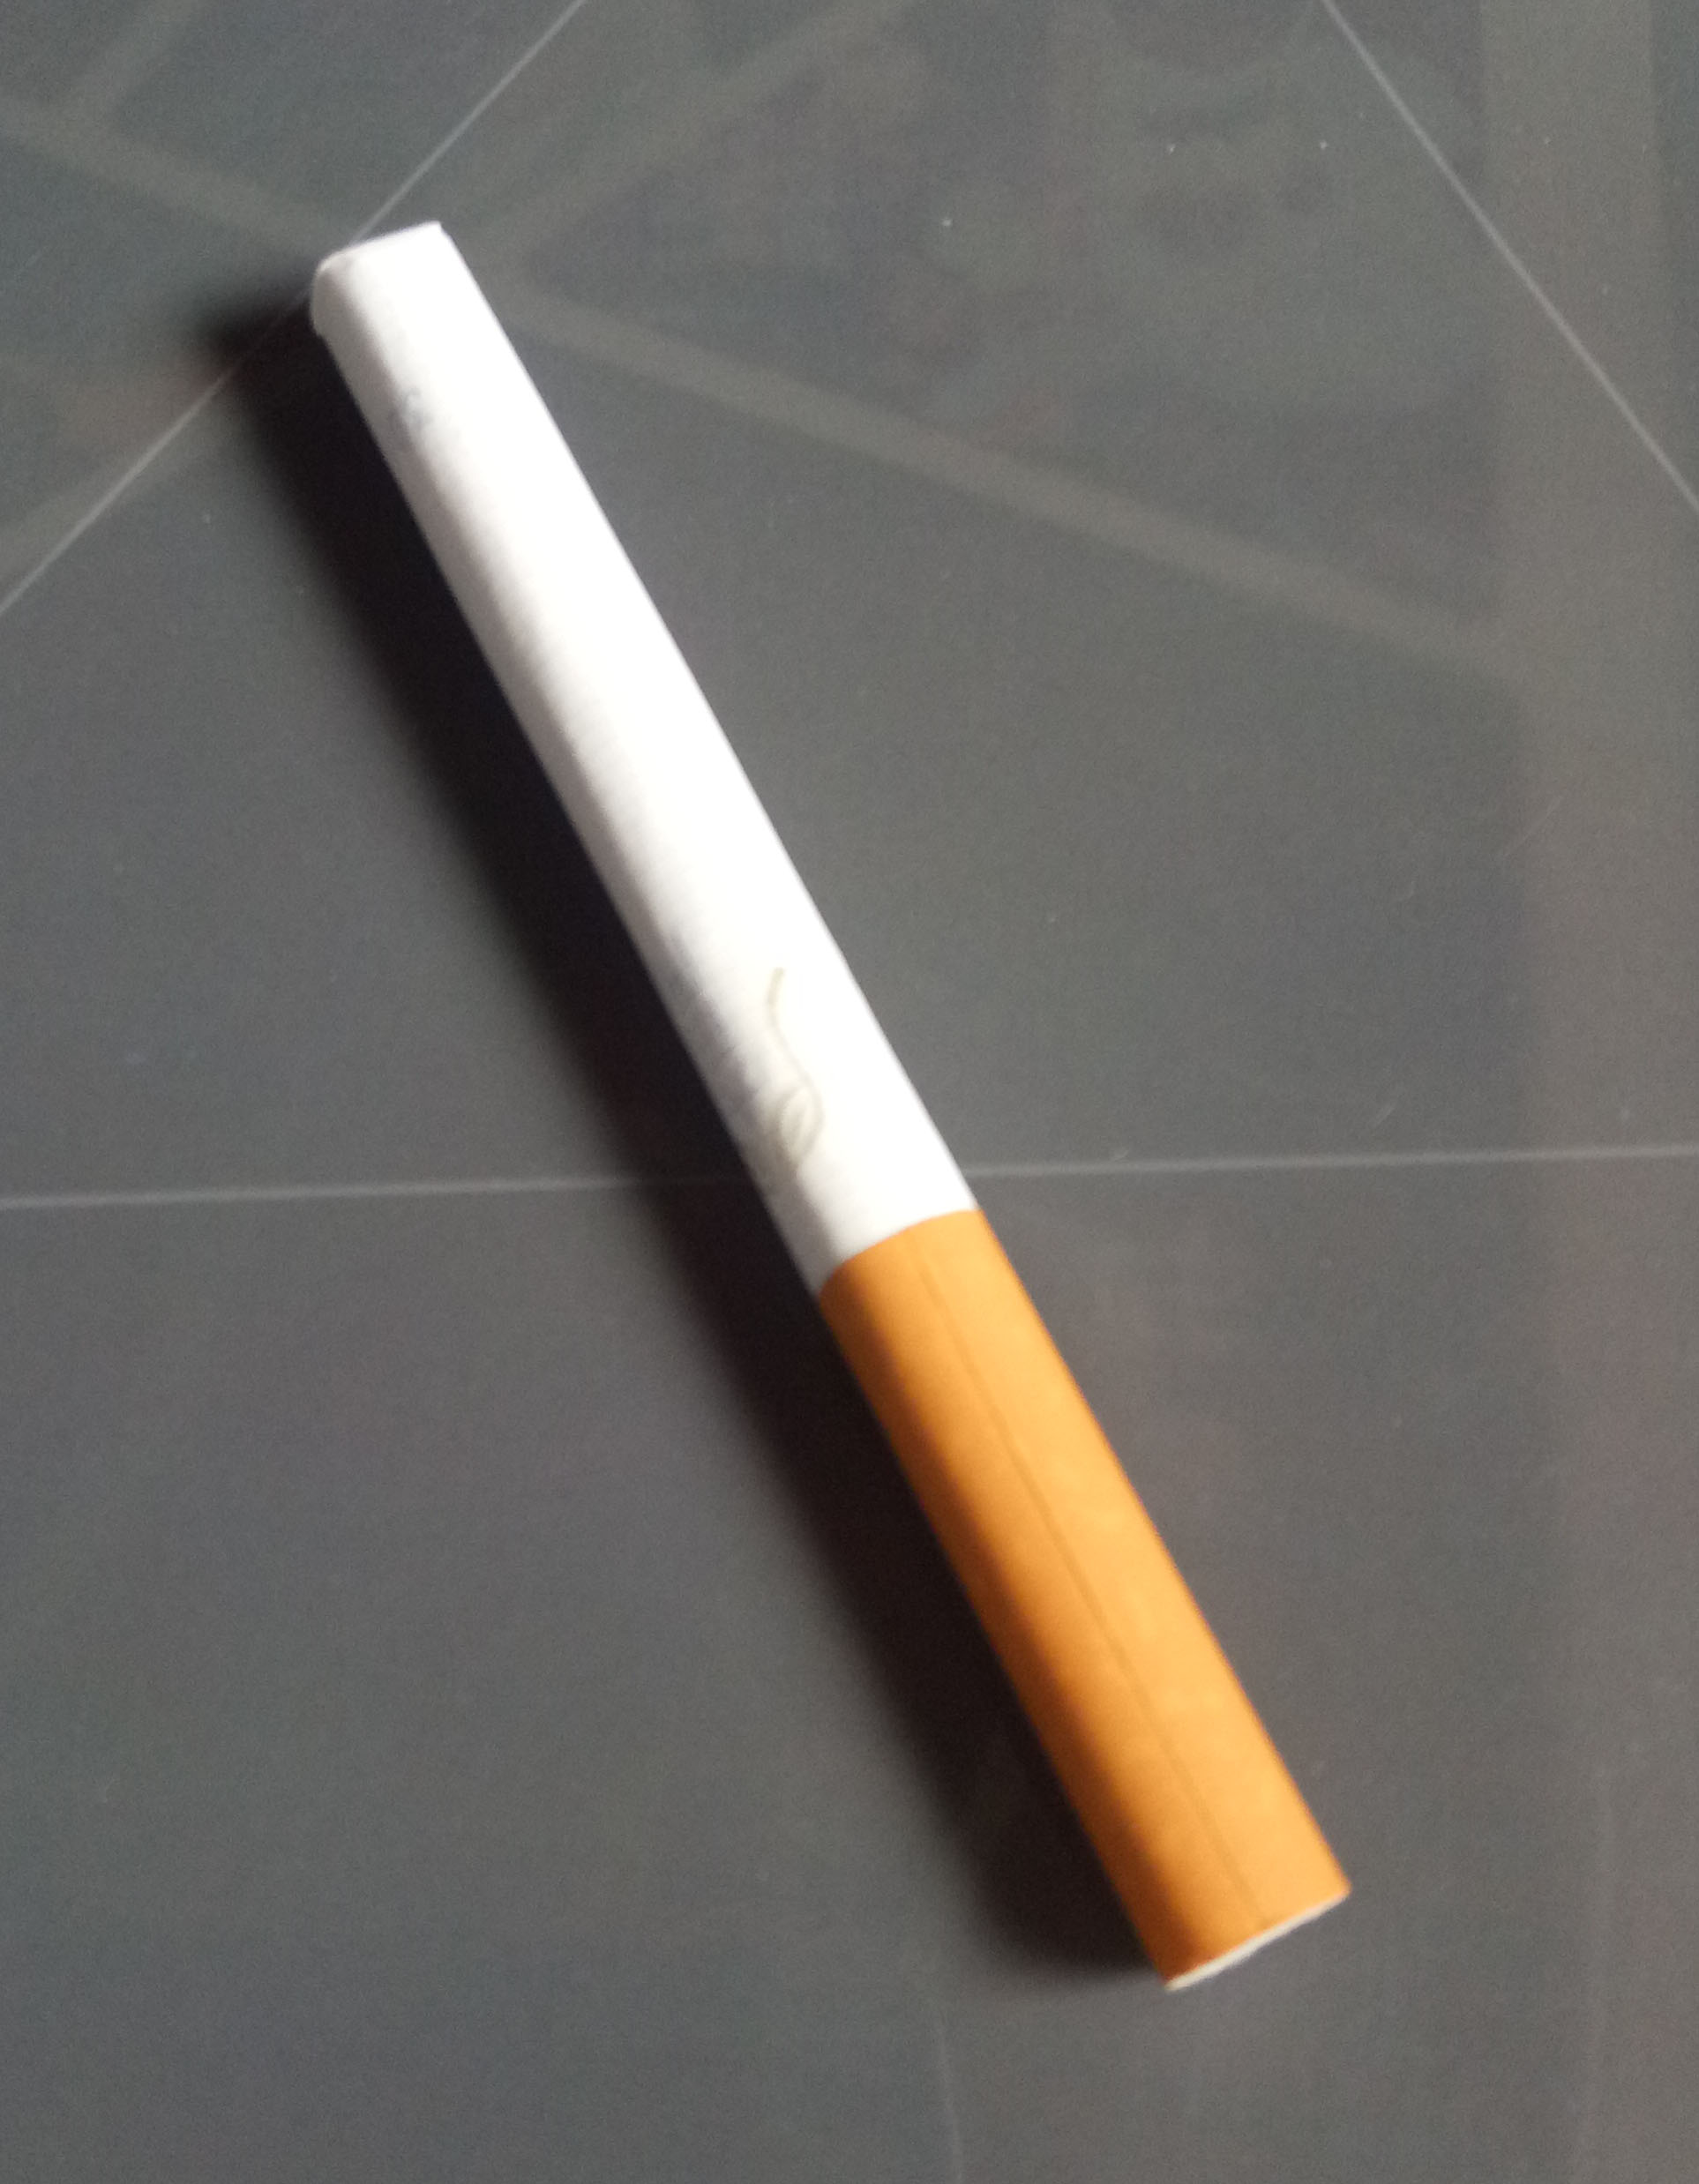cigarette: (266, 190, 1398, 2016)
